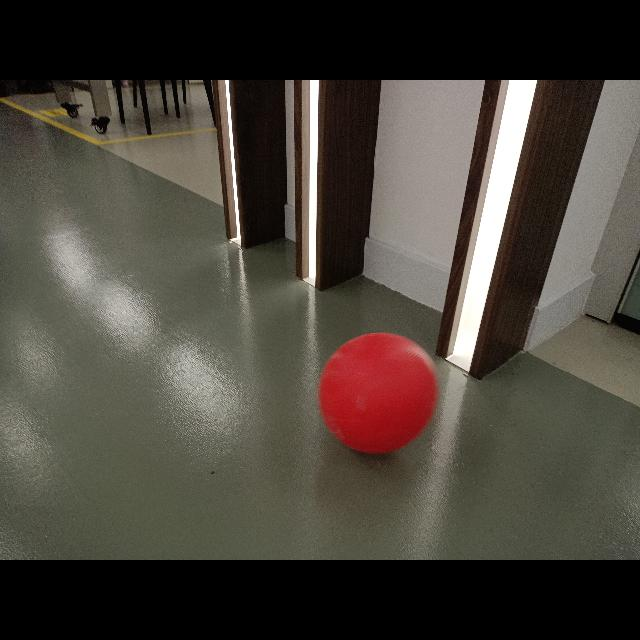R: (317, 326, 439, 454)
